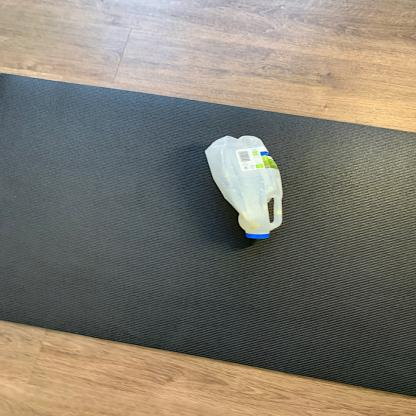trash: (202, 135, 286, 244)
